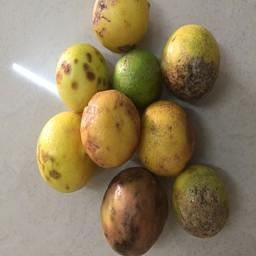Bad_lime: (104, 170, 165, 255), (161, 21, 226, 100), (140, 95, 198, 181), (173, 166, 235, 239), (83, 89, 139, 169), (53, 43, 110, 111), (85, 0, 155, 49), (40, 110, 80, 194)
